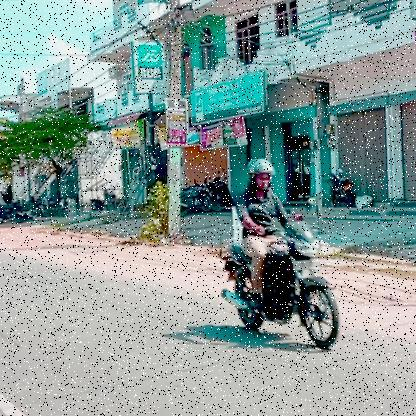motorcycle: (218, 220, 344, 354)
